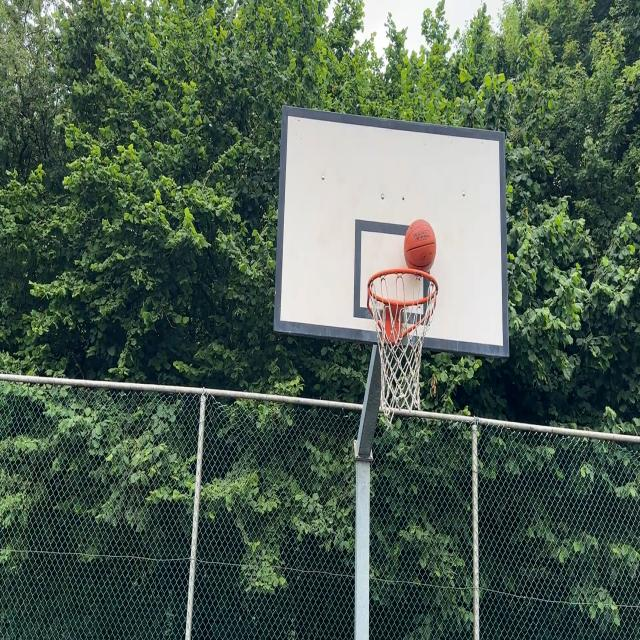rebound_hit: (403, 218, 438, 278)
